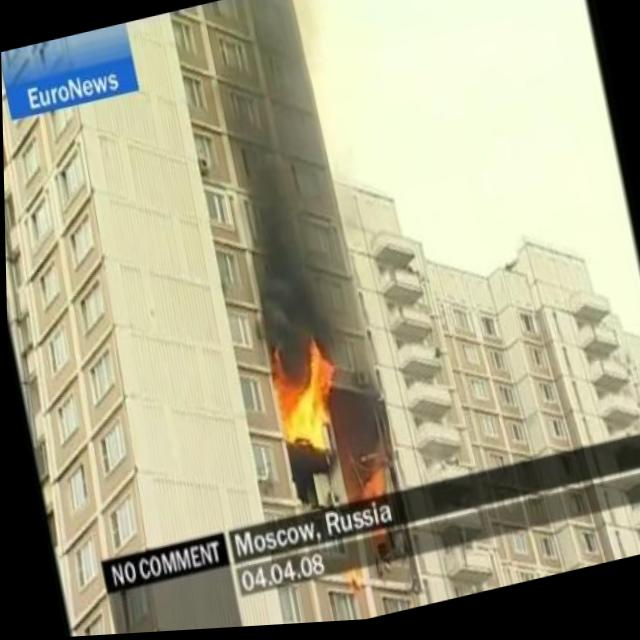fire: (260, 331, 349, 463), (346, 456, 395, 504)
